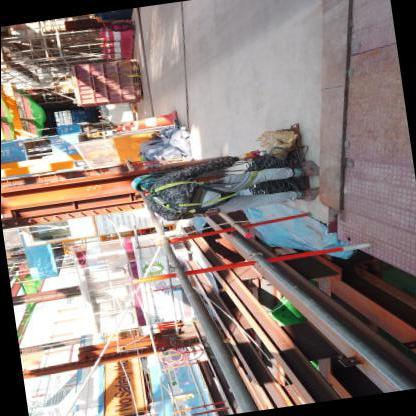safety-shoe: (295, 185, 329, 207), (295, 154, 321, 182)
